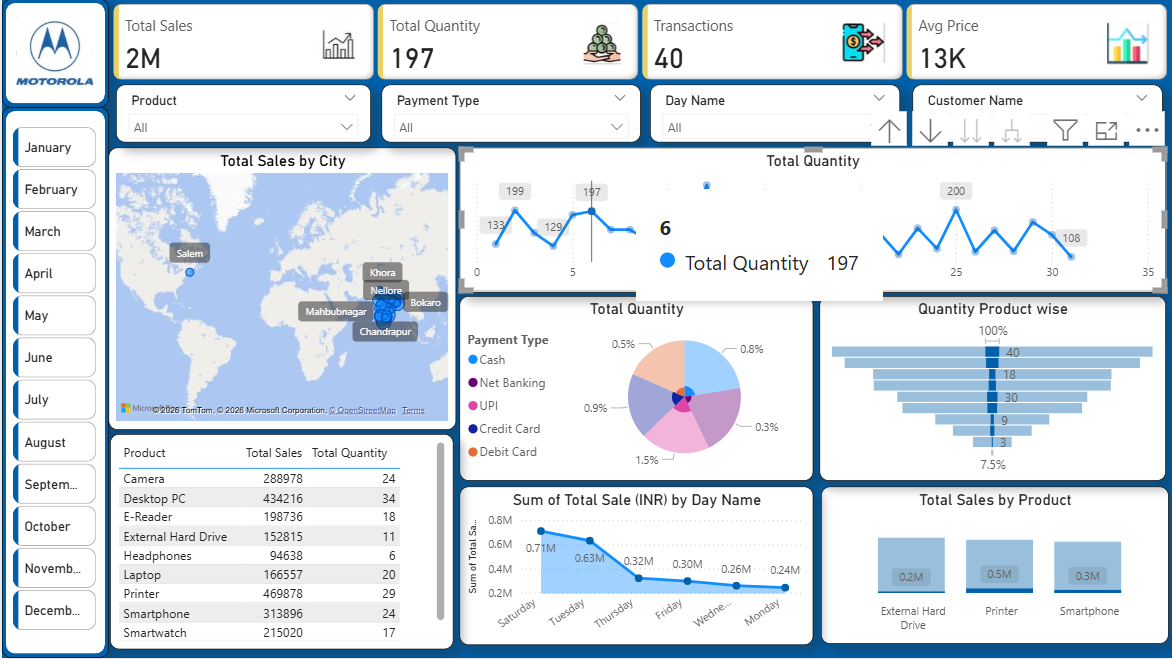

The dashboard page shown, as its layout file describes it:
{"tool":"powerbi","page":{"name":"Page 1","canvas":[1280,720],"ordinal":0},"visuals":[{"type":"shape","box":[0,0,116.7,118.3],"z":0},{"type":"image","box":[10,11.7,95,95],"z":1000},{"type":"shape","box":[0,118.3,116.7,601.7],"z":1001},{"type":"advancedSlicerVisual","fields":{"Values":["Sales_Data.Sales Date.Variation.Date Hierarchy.Month"]},"box":[6.7,135,101.7,570],"z":1002},{"type":"cardVisual","fields":{"Data":["Sales_Data.Total Sales","Sales_Data.Total Quantity","Sales_Data.Transactions","Sales_Data.Avg Price"]},"box":[116.7,0,1163.3,93.3],"z":1003},{"type":"map","fields":{"Category":["Sales_Data.City"],"Size":["Sales_Data.Total Sales"]},"box":[116.7,161.7,380,308.3],"z":1004},{"type":"lineChart","title":"Total Quantity","fields":{"Category":["Sales_Data.Sales Date.Variation.Date Hierarchy.Month","Sales_Data.Sales Date.Variation.Date Hierarchy.Day"],"Y":["Sales_Data.Total Quantity"]},"box":[500,161.7,771.7,158.3],"z":1005},{"type":"clusteredColumnChart","title":"Total Sales by Product","fields":{"Y":["Sum(Sales_Data.Total Sale (INR))"],"Category":["Sales_Data.Product"]},"box":[895,533.3,380,171.7],"z":1006},{"type":"pieChart","title":"Total Quantity","fields":{"Category":["Sales_Data.Payment Type"],"Y":["Sales_Data.Transactions"]},"box":[500,325,386.7,201.7],"z":1007},{"type":"funnel","title":"Quantity Product wise","fields":{"Category":["Sales_Data.Quantity"],"Y":["Sum(Sales_Data.Quantity)"]},"box":[893.3,325,378.3,201.7],"z":1008},{"type":"areaChart","fields":{"Category":["Sales_Data.Day Name"],"Y":["Sum(Sales_Data.Total Sale (INR))"]},"box":[500,533.3,386.7,173.3],"z":1009},{"type":"tableEx","title":"Total Quantity","fields":{"Values":["Sales_Data.Product","Sales_Data.Total Sales","Sales_Data.Total Quantity"]},"box":[118.3,475,375,235],"z":1010},{"type":"slicer","fields":{"Values":["Sales_Data.Product"]},"box":[125,93.3,278.3,63.3],"z":1011},{"type":"slicer","fields":{"Values":["Sales_Data.Payment Type"]},"box":[415,93.3,283.3,63.3],"z":1012},{"type":"slicer","fields":{"Values":["Sales_Data.Day Name"]},"box":[708.3,93.3,273.3,63.3],"z":1013},{"type":"slicer","fields":{"Values":["Sales_Data.Customer Name"]},"box":[995,93.3,273.3,63.3],"z":1014}]}

Visuals, with their boxes in screenshot pixels (x1, y1, x2, y2), scaled from the page's 1280x720 canvas onto the 1172x659 screenshot:
shape: x1=0, y1=0, x2=107, y2=108
image: x1=9, y1=11, x2=96, y2=98
shape: x1=0, y1=108, x2=107, y2=658
advancedSlicerVisual - Sales_Data.Sales Date.Variation.Date Hierarchy.Month: x1=6, y1=124, x2=99, y2=645
cardVisual - Sales_Data.Total Sales x Sales_Data.Total Quantity: x1=107, y1=0, x2=1171, y2=85
map - Sales_Data.City x Sales_Data.Total Sales: x1=107, y1=148, x2=455, y2=430
"Total Quantity" lineChart: x1=458, y1=148, x2=1164, y2=293
"Total Sales by Product" clusteredColumnChart: x1=819, y1=488, x2=1167, y2=645
"Total Quantity" pieChart: x1=458, y1=297, x2=812, y2=482
"Quantity Product wise" funnel: x1=818, y1=297, x2=1164, y2=482
areaChart - Sales_Data.Day Name x Sum(Sales_Data.Total Sale (INR)): x1=458, y1=488, x2=812, y2=647
"Total Quantity" tableEx: x1=108, y1=435, x2=452, y2=650
slicer - Sales_Data.Product: x1=114, y1=85, x2=369, y2=143
slicer - Sales_Data.Payment Type: x1=380, y1=85, x2=639, y2=143
slicer - Sales_Data.Day Name: x1=649, y1=85, x2=899, y2=143
slicer - Sales_Data.Customer Name: x1=911, y1=85, x2=1161, y2=143
